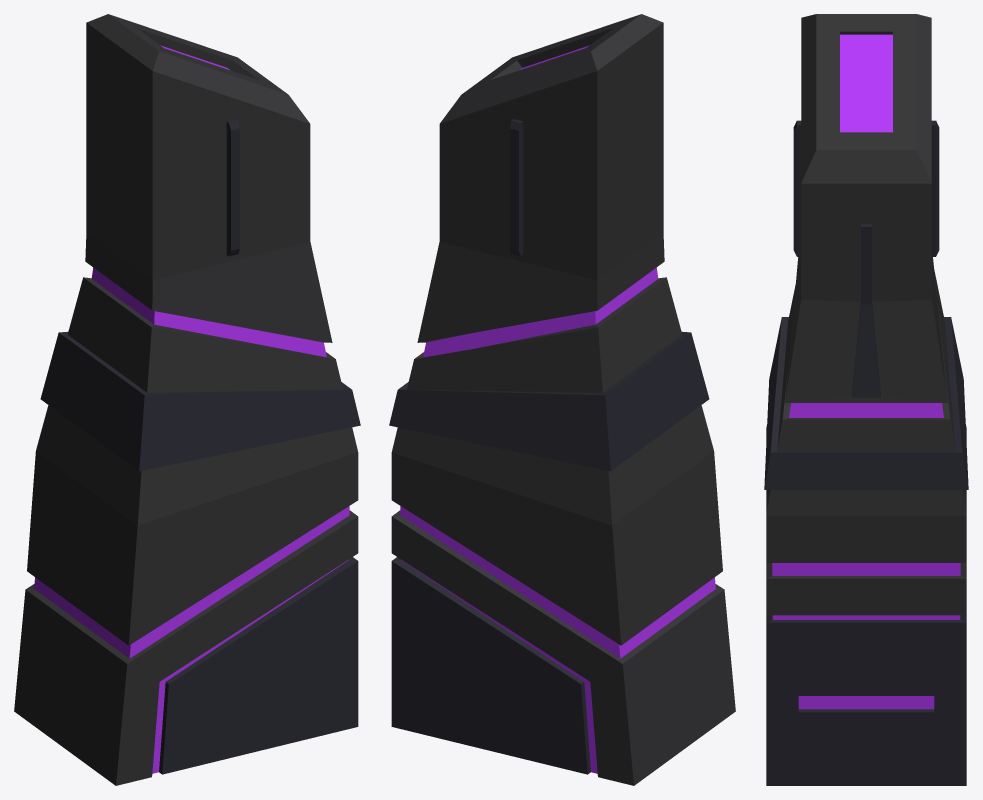
File: NC_Sci-fi04.fbx
The picture shows the model from 3 angles, left to right: view 1: azimuth 30°, elevation 25°; view 2: azimuth 150°, elevation 25°; view 3: azimuth 270°, elevation 25°; orthographic projection.
Parts seen in each view (by area): view 1: NC_Sci_fi04; view 2: NC_Sci_fi04; view 3: NC_Sci_fi04.
Boxes of the visible parts, x1,y1,x2,y2 form: NC_Sci_fi04: (14, 14, 360, 785); NC_Sci_fi04: (389, 14, 735, 785); NC_Sci_fi04: (764, 14, 968, 785).
Size of the model in its own units: 102 by 278 by 74.87.
1 material, 1 textured.
